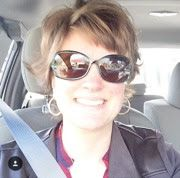sunglasses: (53, 52, 130, 82), (54, 46, 62, 77), (70, 49, 77, 80), (53, 45, 60, 75), (107, 57, 114, 87)
